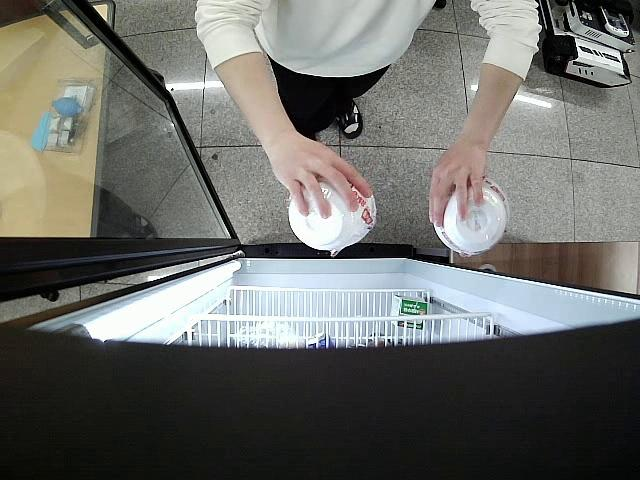00_hand: (267, 134, 374, 218), (429, 145, 486, 230)
09_yukGaeJang: (286, 173, 376, 251), (438, 180, 511, 256)
